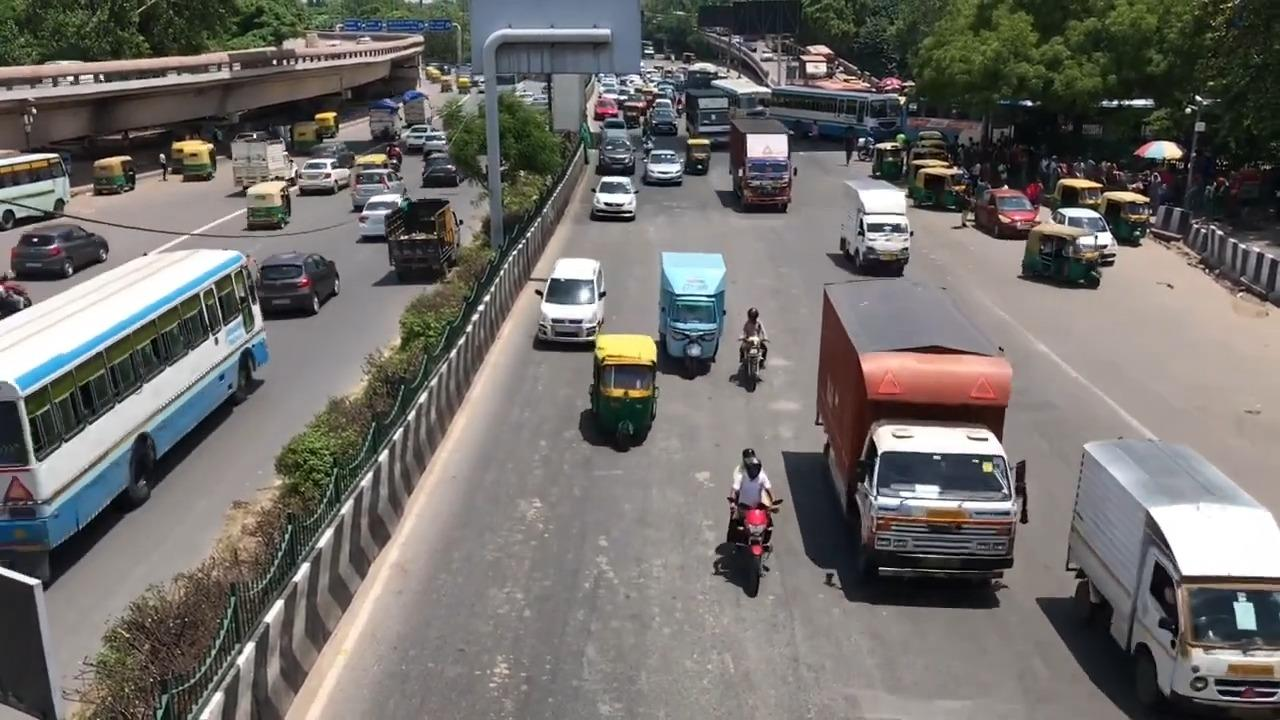Auto: (588, 333, 659, 450), (657, 250, 727, 367), (1022, 219, 1103, 292), (1101, 190, 1155, 248), (245, 180, 291, 230), (91, 155, 136, 194), (179, 139, 217, 181), (682, 140, 715, 177)
Bike: (720, 443, 782, 597), (736, 304, 770, 394), (856, 135, 875, 161)
Bus: (0, 246, 269, 560), (767, 84, 906, 142)
Car: (534, 256, 606, 344), (10, 223, 109, 279), (255, 250, 340, 315), (973, 179, 1038, 242), (357, 191, 409, 240), (589, 175, 638, 220), (296, 158, 350, 194), (596, 130, 636, 171), (642, 149, 683, 185), (0, 278, 32, 320)
Truck: (814, 276, 1028, 586), (1064, 435, 1279, 716), (838, 177, 913, 273), (383, 197, 462, 280), (728, 117, 796, 212), (229, 130, 298, 194)
